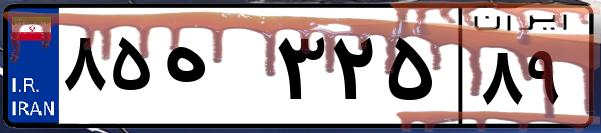2: (330, 28, 385, 110)
3: (270, 28, 330, 110)
5: (385, 28, 445, 110), (110, 28, 158, 98)
8: (57, 26, 110, 100), (475, 38, 525, 113)
9: (525, 38, 570, 115)
ه: (158, 20, 270, 120)
